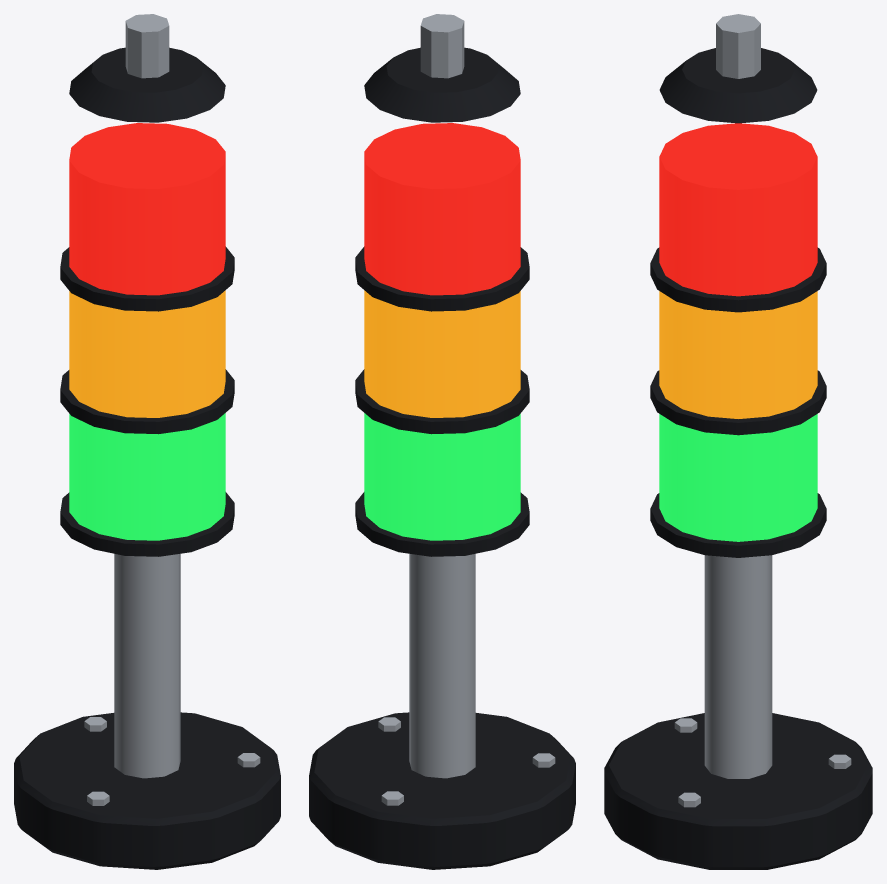
Rendered from warnlight_signal_tower.glb.
3 renders of one model, left to right at view 1: azimuth 30°, elevation 25°; view 2: azimuth 150°, elevation 25°; view 3: azimuth 270°, elevation 25°, orthographic.
Visible parts, largest first — view 1: warnlight_signal_tower; view 2: warnlight_signal_tower; view 3: warnlight_signal_tower.
Part boxes in pixels (box(x1,y1,x2,y2)): warnlight_signal_tower: box(14, 14, 280, 869); warnlight_signal_tower: box(309, 14, 575, 869); warnlight_signal_tower: box(604, 14, 872, 869).
Bounding box in the file's own units: 0.234 × 0.775 × 0.2378.
